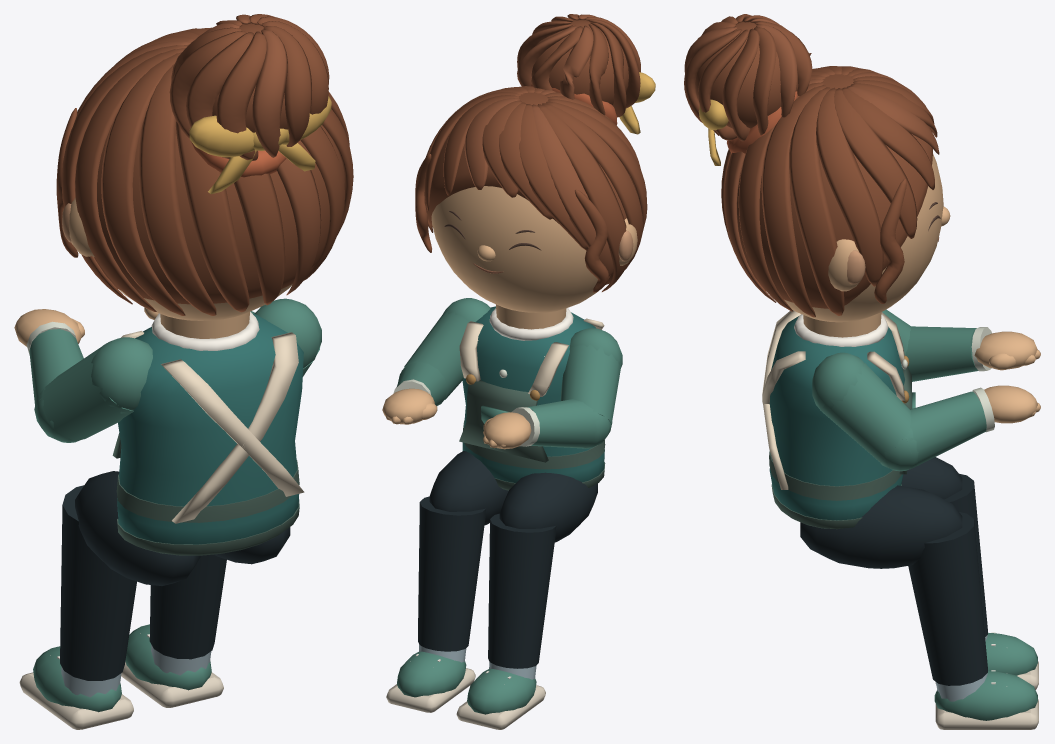
Rendered from employee-2.glb.
The picture shows the model from 3 angles, left to right: view 1: azimuth 30°, elevation 25°; view 2: azimuth 150°, elevation 25°; view 3: azimuth 270°, elevation 25°; orthographic projection. The views are drawn at different scales.
Visible parts, largest first — view 1: Head, Body, Shin_L, Arm_L, Shin_R, Thigh_L, Foot_L, Foot_R, Forearm_L, Arm_R, Thigh_R; view 2: Head, Body, Shin_R, Shin_L, Thigh_L, Forearm_L, Arm_L, Foot_L, Foot_R, Thigh_R, Arm_R, Forearm_R; view 3: Head, Body, Shin_R, Thigh_R, Arm_R, Forearm_R, Forearm_L, Foot_R, Foot_L, Thigh_L, Shin_L.
Part boxes in pixels (left/top/right/bottom): Head: left=56, top=14, right=353, bottom=320; Body: left=112, top=311, right=304, bottom=555; Shin_L: left=60, top=485, right=136, bottom=680; Arm_L: left=34, top=337, right=152, bottom=442; Shin_R: left=149, top=554, right=226, bottom=659; Thigh_L: left=75, top=471, right=200, bottom=585; Foot_L: left=19, top=646, right=133, bottom=729; Foot_R: left=121, top=624, right=223, bottom=707; Forearm_L: left=14, top=309, right=84, bottom=411; Arm_R: left=254, top=298, right=321, bottom=376; Thigh_R: left=214, top=527, right=290, bottom=564; Head: left=415, top=14, right=655, bottom=312; Body: left=459, top=304, right=605, bottom=490; Shin_R: left=418, top=496, right=485, bottom=651; Shin_L: left=488, top=513, right=556, bottom=668; Thigh_L: left=499, top=472, right=597, bottom=542; Forearm_L: left=483, top=399, right=602, bottom=449; Arm_L: left=560, top=328, right=622, bottom=448; Foot_L: left=456, top=662, right=545, bottom=729; Foot_R: left=386, top=645, right=475, bottom=712; Thigh_R: left=429, top=451, right=508, bottom=525; Arm_R: left=398, top=298, right=490, bottom=404; Forearm_R: left=382, top=362, right=447, bottom=424; Head: left=684, top=14, right=950, bottom=322; Body: left=762, top=310, right=915, bottom=529; Shin_R: left=908, top=512, right=987, bottom=685; Thigh_R: left=800, top=485, right=962, bottom=568; Arm_R: left=812, top=352, right=918, bottom=471; Forearm_R: left=905, top=385, right=1040, bottom=468; Forearm_L: left=905, top=326, right=1040, bottom=381; Foot_R: left=934, top=670, right=1038, bottom=729; Foot_L: left=935, top=632, right=1038, bottom=689; Thigh_L: left=901, top=457, right=962, bottom=499; Shin_L: left=944, top=473, right=987, bottom=636.
Size of the model in its own units: 0.742 by 2.04 by 0.9793.
